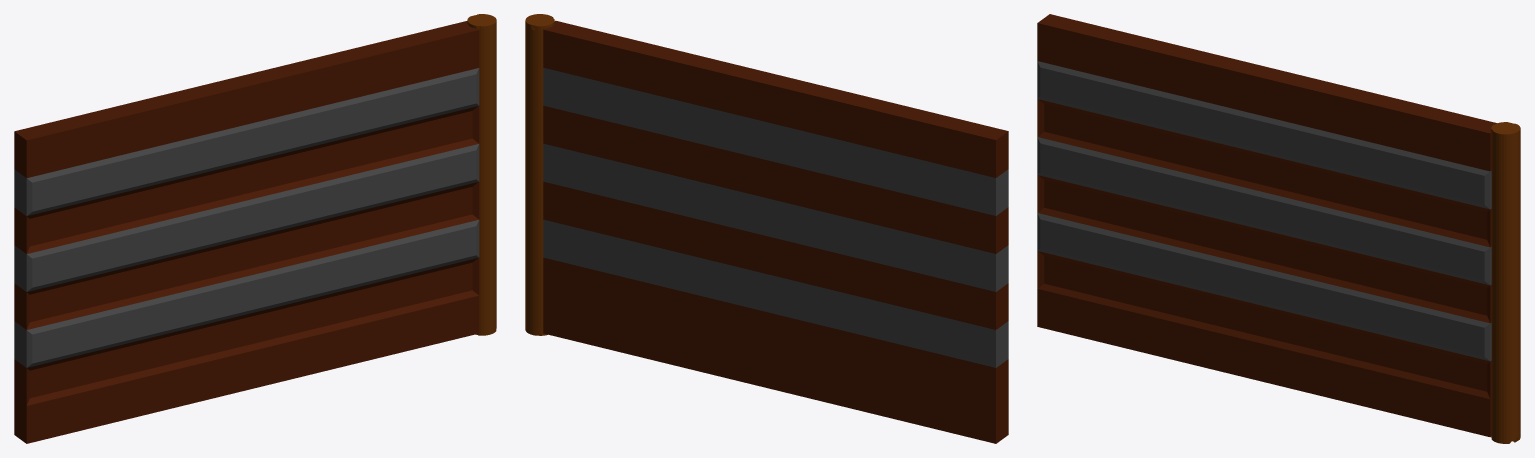
Rendered from PorteVillageDroite.fbx.
3 views of the same model, side by side, from view 1: azimuth 30°, elevation 25°; view 2: azimuth 150°, elevation 25°; view 3: azimuth 330°, elevation 25° (orthographic).
Visible parts, largest first — view 1: Porte Droite; view 2: Porte Droite; view 3: Porte Droite.
Boxes of the visible parts, x1=… form: Porte Droite: x1=14, y1=14, x2=496, y2=443; Porte Droite: x1=525, y1=14, x2=1008, y2=443; Porte Droite: x1=1037, y1=14, x2=1520, y2=443.
Size of the model in its own units: 557 by 347 by 30.68.
